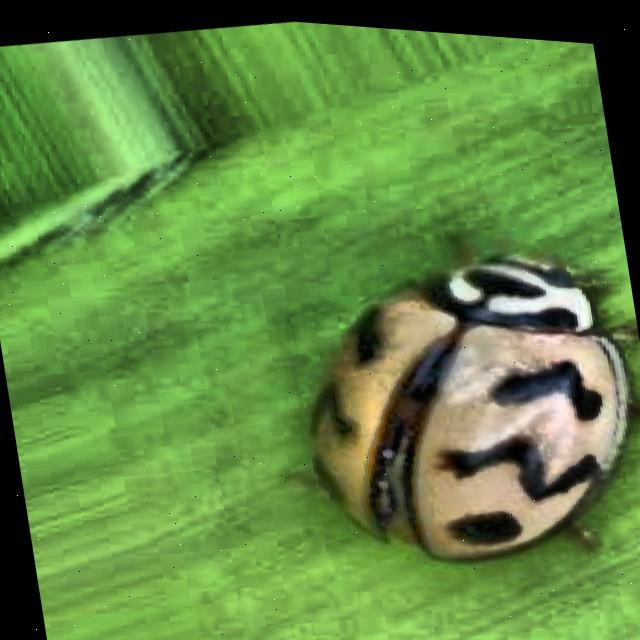Pyrilla-perpusilla: (220, 179, 640, 630)
